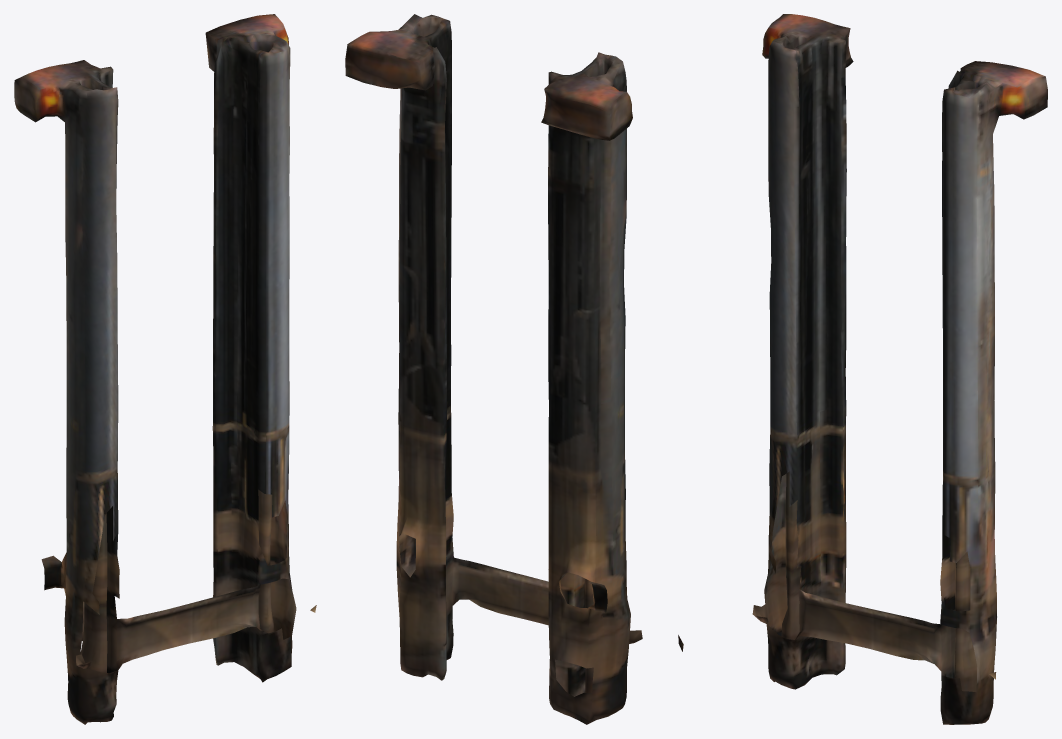
Rendered from mast_outter_01.glb.
3 views of the same model, side by side, from view 1: azimuth 30°, elevation 25°; view 2: azimuth 150°, elevation 25°; view 3: azimuth 330°, elevation 25° (orthographic).
Parts seen in each view (by area): view 1: Mesh_0; view 2: Mesh_0; view 3: Mesh_0.
Part boxes in pixels (<box>): Mesh_0: <box>14,14,316,724</box>; Mesh_0: <box>345,14,683,724</box>; Mesh_0: <box>752,14,1047,724</box>.
Size of the model in its own units: 0.6146 by 1.32 by 0.1822.
Materials: 1 (1 with a texture image).
